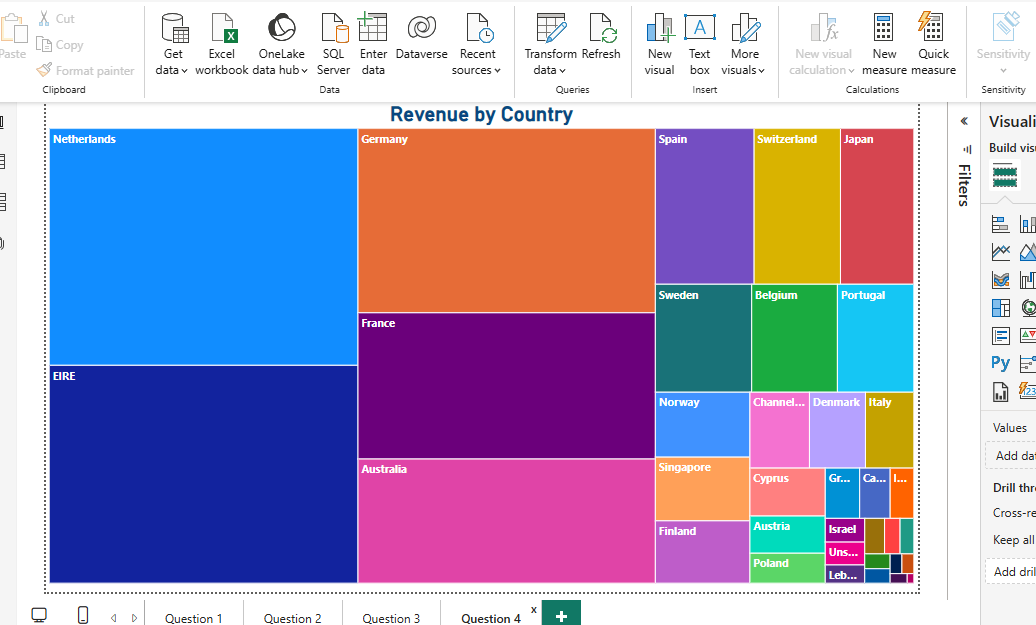

The dashboard page shown, as its layout file describes it:
{"tool":"powerbi","page":{"name":"Question 4","canvas":[1280,720],"ordinal":3},"visuals":[{"type":"treemap","title":"Revenue by Country","fields":{"Group":["Online Retail.Country"],"Values":["Sum(Online Retail.Total Price)"]},"box":[0,0,1280,712],"z":2}]}

Visuals, with their boxes on the page's 1280x720 design canvas (x1, y1, x2, y2). These are canvas units, not pixel positions in the 1036x625 screenshot, which may show the page scaled, cropped or inside an application window:
"Revenue by Country" treemap: [0, 0, 1280, 712]
